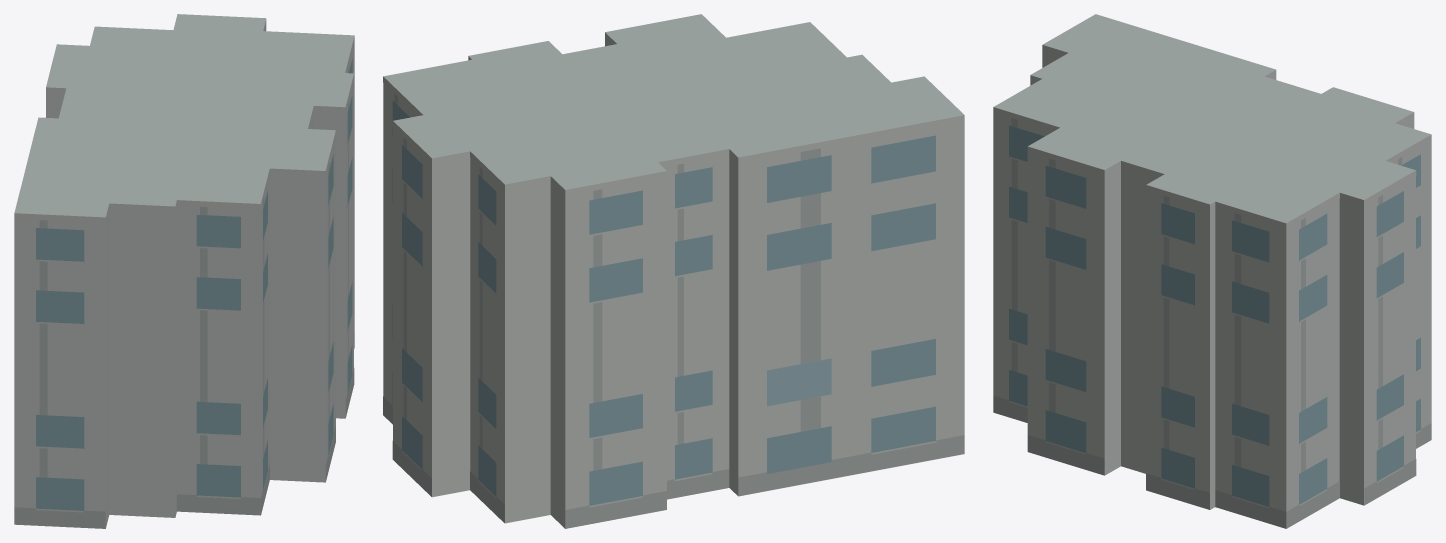
Rendered from survey-upis-32622072.glb.
3 views of the same model, side by side, from view 1: azimuth 30°, elevation 25°; view 2: azimuth 150°, elevation 25°; view 3: azimuth 270°, elevation 25° (orthographic). The views are drawn at different scales.
Parts seen in each view (by area): view 1: survey-upis-32622072.tmp; view 2: survey-upis-32622072.tmp; view 3: survey-upis-32622072.tmp.
Boxes of the visible parts, x1,y1,x2,y2 form: survey-upis-32622072.tmp: [14, 14, 354, 528]; survey-upis-32622072.tmp: [383, 14, 964, 528]; survey-upis-32622072.tmp: [993, 14, 1431, 528].
Size of the model in its own units: 19.77 by 13.45 by 17.49.
